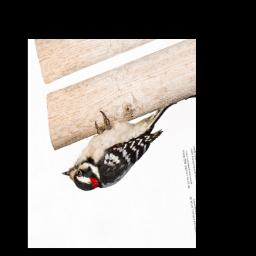Woodpecker: (55, 88, 168, 204)
